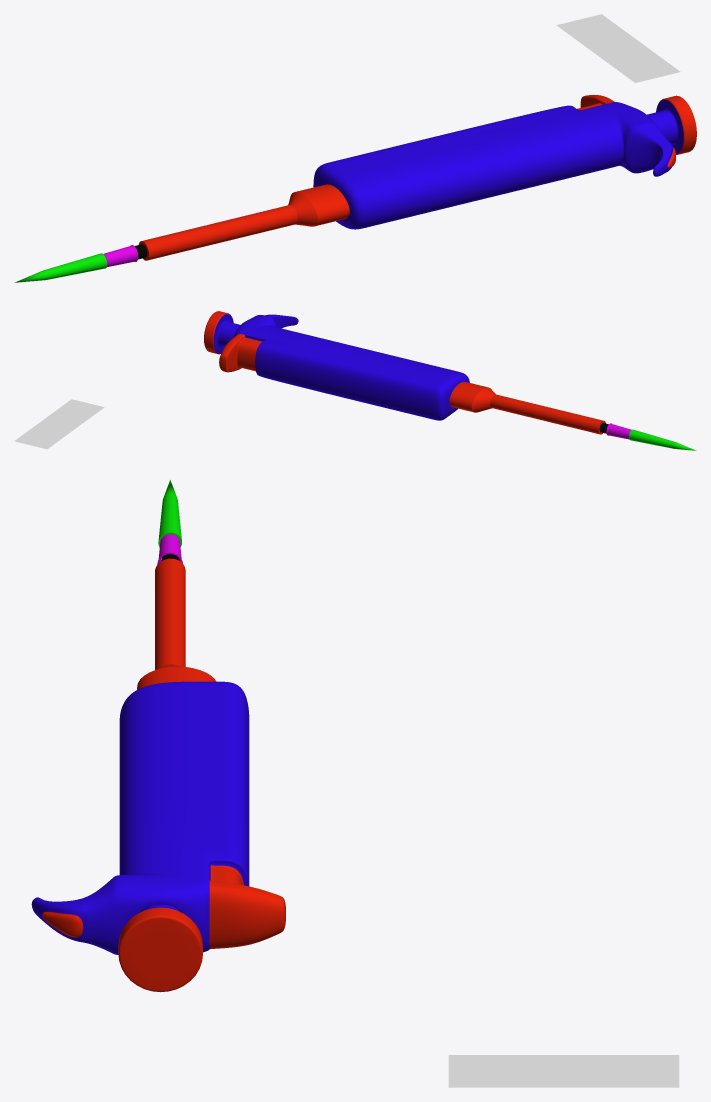
Rendered from M.Pipette  And Glass Slide.fbx.
3 renders of one model, top to bottom at view 1: azimuth 30°, elevation 25°; view 2: azimuth 150°, elevation 25°; view 3: azimuth 270°, elevation 25°, orthographic. The views are drawn at different scales.
Visible parts, largest first — view 1: Cube, Plane, Cube.003; view 2: Cube, Plane, Cube.003; view 3: Cube, Plane, Cube.003.
Part boxes in pixels (x1,y1,x2,y2): Cube: [103, 95, 696, 266]; Plane: [556, 14, 680, 82]; Cube.003: [14, 253, 107, 282]; Cube: [204, 311, 631, 439]; Plane: [14, 399, 104, 449]; Cube.003: [629, 429, 696, 450]; Cube: [31, 534, 285, 992]; Plane: [448, 1055, 679, 1087]; Cube.003: [158, 480, 181, 546].
Bounding box in the file's own units: 41.76 × 3.68 × 21.06.
